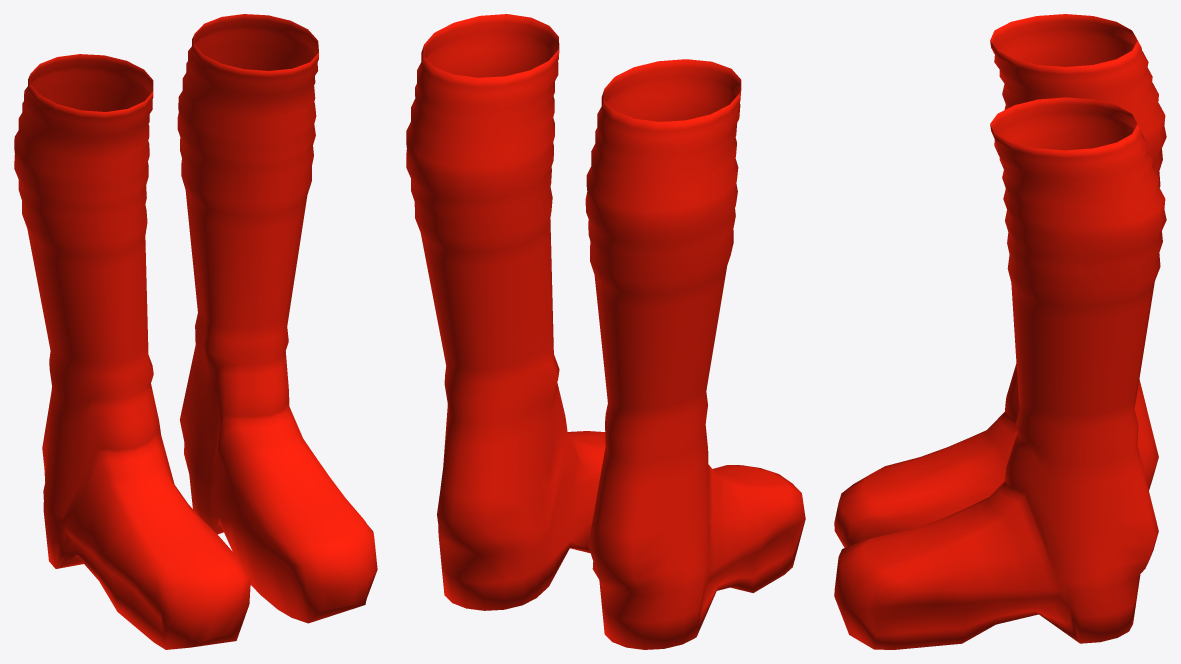
Rendered from Supergirl_shoes_boy.fbx.
3 renders of one model, left to right at view 1: azimuth 30°, elevation 25°; view 2: azimuth 150°, elevation 25°; view 3: azimuth 270°, elevation 25°, orthographic. The views are drawn at different scales.
Visible parts, largest first — view 1: Super_girl_Shoes; view 2: Super_girl_Shoes; view 3: Super_girl_Shoes.
Boxes of the visible parts, left/top/right/bottom form: Super_girl_Shoes: left=14, top=14, right=377, bottom=649; Super_girl_Shoes: left=406, top=14, right=805, bottom=649; Super_girl_Shoes: left=834, top=14, right=1166, bottom=649.
Size of the model in its own units: 11.63 by 19.81 by 11.51.
